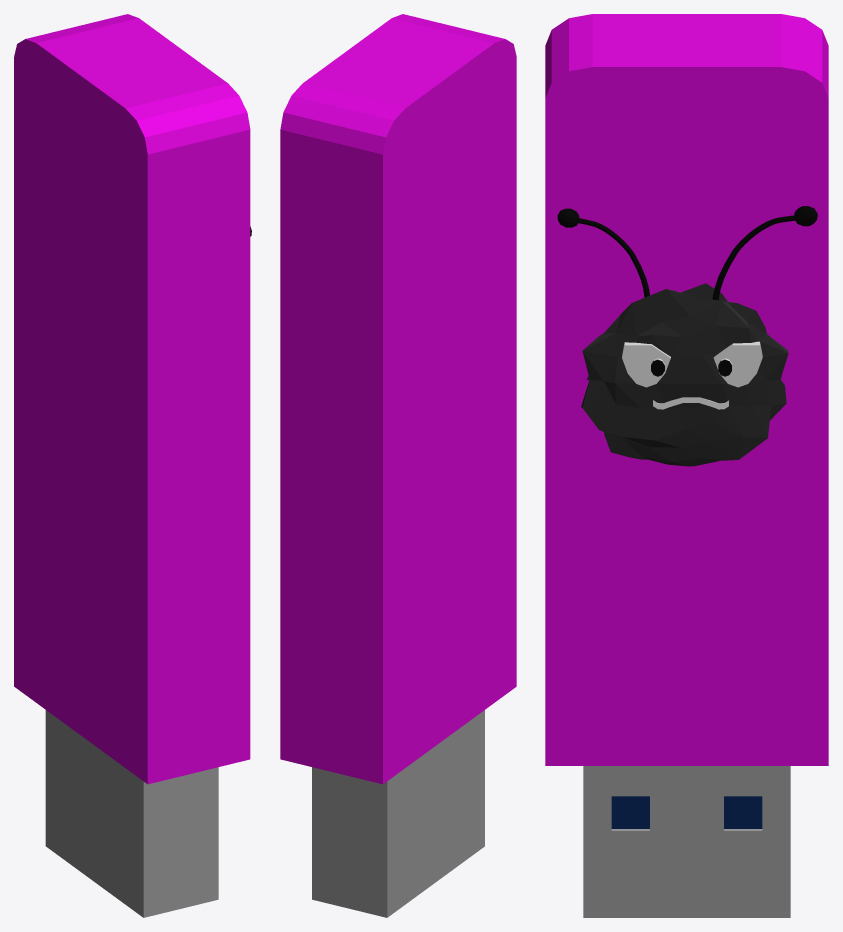
File: USBItem.fbx
The picture shows the model from 3 angles, left to right: view 1: azimuth 30°, elevation 25°; view 2: azimuth 150°, elevation 25°; view 3: azimuth 270°, elevation 25°; orthographic projection. The views are drawn at different scales.
Visible parts, largest first — view 1: Cube; view 2: Cube; view 3: Cube, Head, Eyes, LeftAntenna, Rigth Antenna.
Part boxes in pixels (x1,y1,x2,y2): Cube: [14, 14, 250, 917]; Cube: [280, 14, 516, 917]; Cube: [545, 14, 828, 917]; Head: [581, 283, 788, 466]; Eyes: [622, 341, 762, 387]; LeftAntenna: [712, 206, 817, 300]; Rigth Antenna: [557, 208, 649, 297].
Bounding box in the file's own units: 656 × 4405 × 1318.
